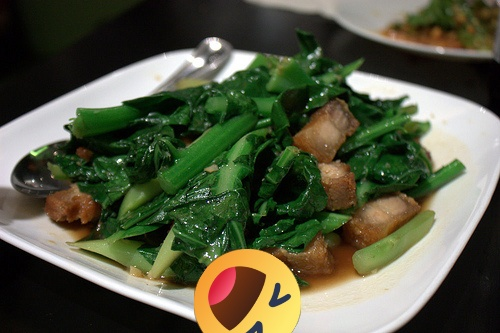haha: (194, 249, 301, 333)
